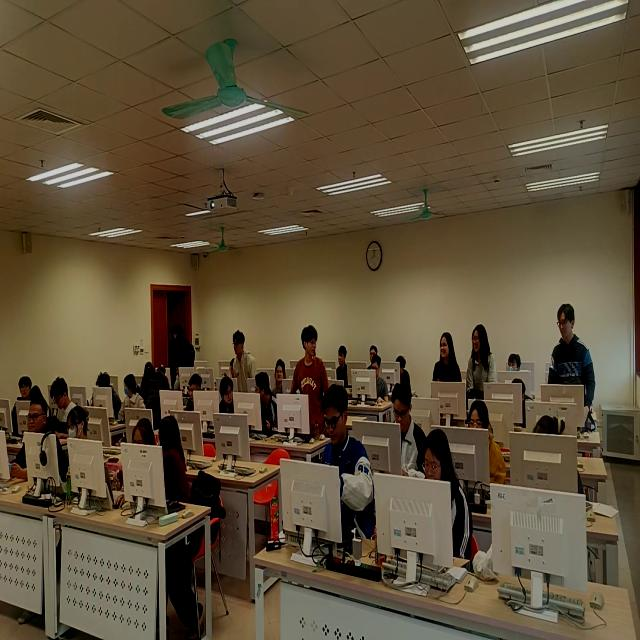raise_head: (1, 395, 57, 492), (16, 372, 37, 411), (505, 350, 528, 382), (231, 328, 251, 363), (334, 345, 351, 382), (272, 363, 292, 394), (368, 344, 378, 365)
stand: (551, 305, 597, 436), (296, 327, 331, 442), (468, 322, 496, 424), (433, 328, 462, 426), (173, 321, 193, 398), (232, 332, 252, 405)
using_computer: (401, 430, 473, 561), (315, 390, 374, 548), (514, 412, 586, 503), (100, 415, 161, 514), (379, 387, 428, 489), (456, 398, 506, 494), (49, 404, 97, 501), (501, 373, 536, 429), (357, 355, 391, 411), (173, 375, 208, 427), (91, 370, 121, 422), (385, 353, 415, 398), (51, 375, 74, 428), (166, 364, 187, 401)
